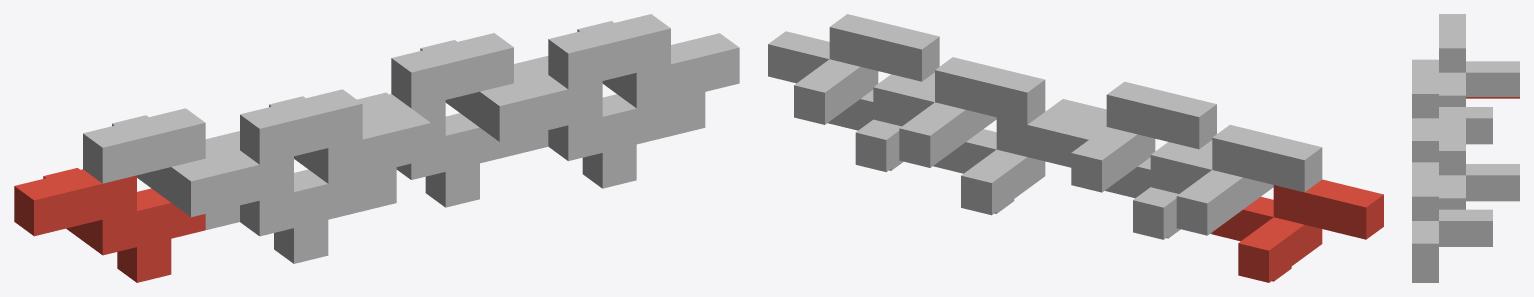
File: tiling.obj
The picture shows the model from 3 angles, left to right: view 1: azimuth 30°, elevation 25°; view 2: azimuth 150°, elevation 25°; view 3: azimuth 270°, elevation 25°; orthographic projection. The views are drawn at different scales.
Parts seen in each view (by area): view 1: copy_1_domain_8, copy_1_domain_4, copy_1_domain_2, copy_1_domain_6, copy_1_domain_1, copy_1_domain_3, copy_1_domain_7, copy_1_domain_5; view 2: copy_1_domain_3, copy_1_domain_7, copy_1_domain_8, copy_1_domain_4, copy_1_domain_1, copy_1_domain_5, copy_1_domain_6, copy_1_domain_2; view 3: copy_1_domain_8, copy_1_domain_7, copy_1_domain_3, copy_1_domain_4, copy_1_domain_6, copy_1_domain_1, copy_1_domain_5, copy_1_domain_2.
Part boxes in pixels (left/top/right/bottom): copy_1_domain_8: left=548, top=14, right=739, bottom=135; copy_1_domain_4: left=240, top=89, right=430, bottom=211; copy_1_domain_2: left=171, top=150, right=362, bottom=263; copy_1_domain_6: left=480, top=75, right=670, bottom=188; copy_1_domain_1: left=14, top=168, right=205, bottom=282; copy_1_domain_3: left=83, top=108, right=239, bottom=229; copy_1_domain_7: left=391, top=33, right=548, bottom=154; copy_1_domain_5: left=357, top=92, right=513, bottom=207; copy_1_domain_3: left=1150, top=125, right=1322, bottom=235; copy_1_domain_7: left=873, top=57, right=1045, bottom=167; copy_1_domain_8: left=768, top=14, right=939, bottom=124; copy_1_domain_4: left=1045, top=81, right=1216, bottom=192; copy_1_domain_1: left=1212, top=179, right=1383, bottom=282; copy_1_domain_5: left=935, top=112, right=1106, bottom=215; copy_1_domain_6: left=829, top=72, right=996, bottom=172; copy_1_domain_2: left=1106, top=140, right=1273, bottom=239; copy_1_domain_8: left=1412, top=162, right=1492, bottom=281; copy_1_domain_7: left=1439, top=116, right=1519, bottom=209; copy_1_domain_3: left=1439, top=14, right=1519, bottom=106; copy_1_domain_4: left=1412, top=59, right=1492, bottom=162; copy_1_domain_6: left=1412, top=245, right=1492, bottom=282; copy_1_domain_1: left=1466, top=97, right=1519, bottom=98; copy_1_domain_5: left=1466, top=200, right=1519, bottom=201; copy_1_domain_2: left=1466, top=142, right=1492, bottom=144.
Bounding box in the file's own units: 20 × 4 × 4.
